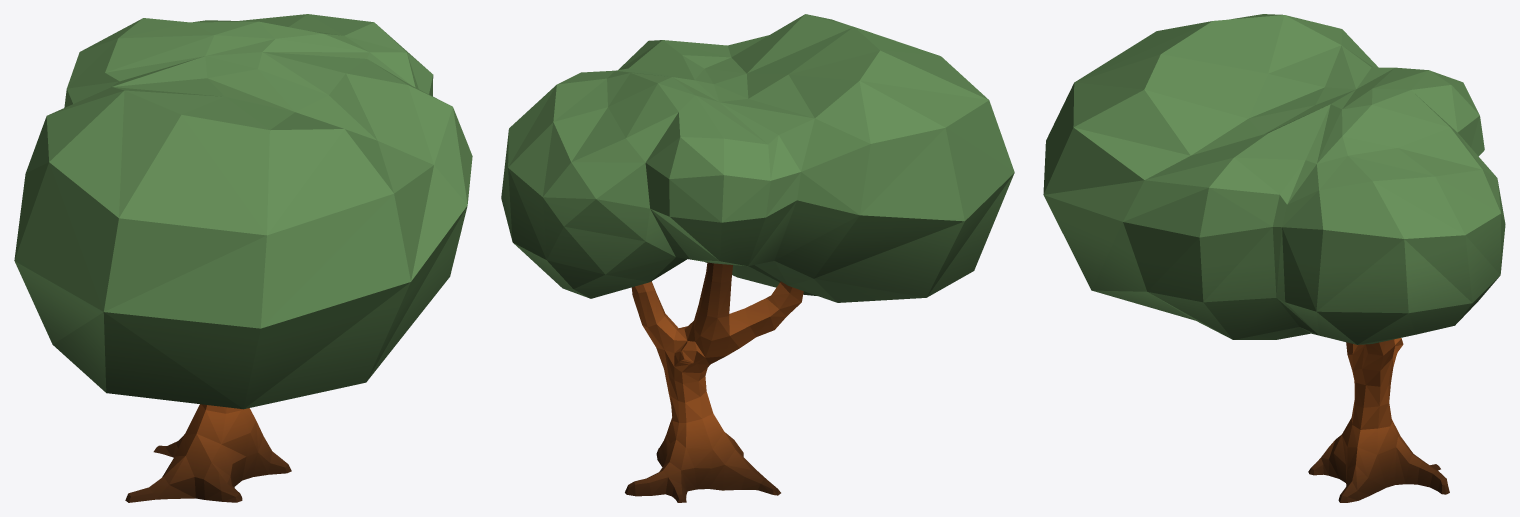
Rendered from Tree-03.FBX.
3 views of the same model, side by side, from view 1: azimuth 30°, elevation 25°; view 2: azimuth 150°, elevation 25°; view 3: azimuth 270°, elevation 25° (orthographic). The views are drawn at different scales.
Parts seen in each view (by area): view 1: Tree-03; view 2: Tree-03; view 3: Tree-03.
Boxes of the visible parts, x1,y1,x2,y2 form: Tree-03: (14, 14, 472, 502); Tree-03: (501, 14, 1014, 502); Tree-03: (1043, 14, 1505, 502).
Bounding box in the file's own units: 838 × 799 × 822.
1 material, 1 textured.
